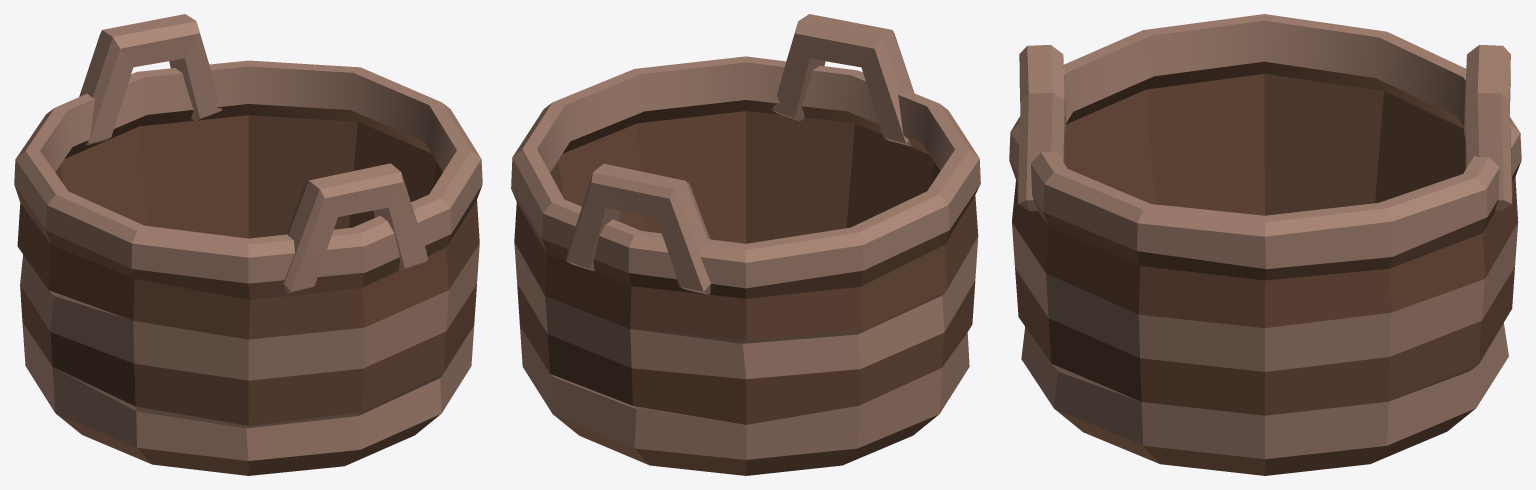
File: Basket_half.fbx
The picture shows the model from 3 angles, left to right: view 1: azimuth 30°, elevation 25°; view 2: azimuth 150°, elevation 25°; view 3: azimuth 270°, elevation 25°; orthographic projection. The views are drawn at different scales.
Parts seen in each view (by area): view 1: SM_Prop_Basket_04; view 2: SM_Prop_Basket_04; view 3: SM_Prop_Basket_04.
Part boxes in pixels (bbox=[...]): SM_Prop_Basket_04: bbox=[14, 14, 482, 475]; SM_Prop_Basket_04: bbox=[511, 14, 980, 475]; SM_Prop_Basket_04: bbox=[1009, 14, 1521, 475].
Size of the model in its own units: 50.03 by 34.92 by 50.03.
